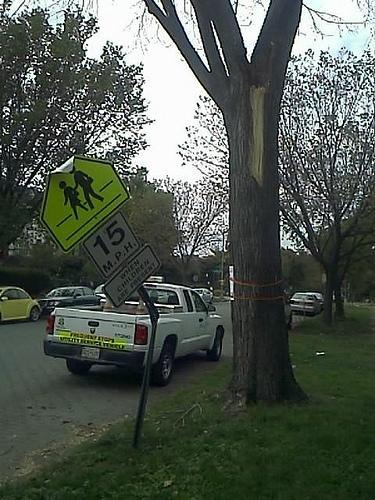car: (36, 286, 94, 319), (0, 286, 44, 322), (290, 290, 324, 316), (195, 288, 214, 302), (94, 284, 104, 294)
truck: (42, 278, 224, 386)
